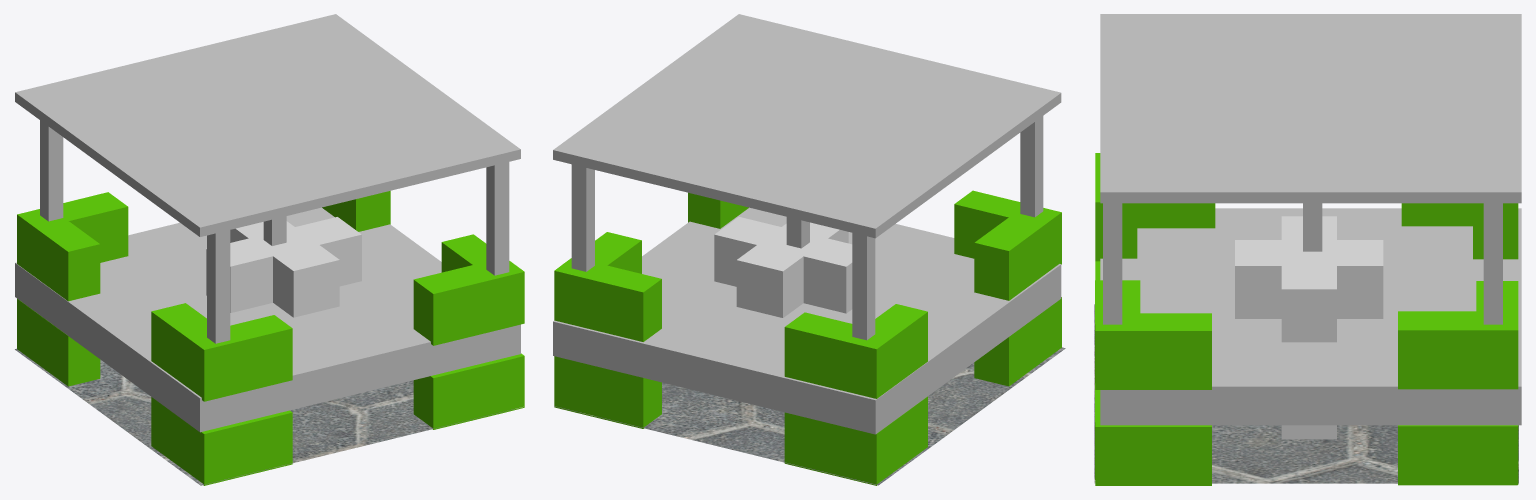
Rendered from Plus_Grid.fbx.
The picture shows the model from 3 angles, left to right: view 1: azimuth 30°, elevation 25°; view 2: azimuth 150°, elevation 25°; view 3: azimuth 270°, elevation 25°; orthographic projection. The views are drawn at different scales.
Parts seen in each view (by area): view 1: Cube__11_, Cube__5_.001, plus, Cube.004, Cube__7_, Cube__8_, Cube__6_.001, Cube__1_.003, Cube__2_.002, Cube.003, ww, ww__2_ (+3 smaller); view 2: Cube__11_, Cube__5_.001, Cube.004, plus, Cube__6_.001, Cube__7_, Cube__9_, Cube.003, Cube__3_.001, Cube__1_.003, ww__3_, ww__1_ (+3 smaller); view 3: Cube__11_, Cube__5_.001, Cube.004, plus, Cube__9_, Cube__8_, Cube__3_.001, Cube__2_.002, Cube__7_, Cube__6_.001, ww__2_, ww__3_ (+2 smaller).
Boxes of the visible parts, left/top/right/bottom form: Cube__11_: left=15, top=14, right=520, bottom=236; Cube__5_.001: left=15, top=207, right=520, bottom=432; plus: left=15, top=348, right=523, bottom=485; Cube.004: left=206, top=217, right=361, bottom=317; Cube__7_: left=151, top=303, right=292, bottom=401; Cube__8_: left=413, top=234, right=524, bottom=345; Cube__6_.001: left=17, top=192, right=128, bottom=301; Cube__1_.003: left=151, top=397, right=292, bottom=485; Cube__2_.002: left=413, top=353, right=524, bottom=429; Cube.003: left=17, top=298, right=100, bottom=386; ww: left=207, top=230, right=230, bottom=343; ww__2_: left=486, top=162, right=509, bottom=275; Cube__11_: left=553, top=14, right=1061, bottom=238; Cube__5_.001: left=553, top=207, right=1061, bottom=434; Cube.004: left=714, top=217, right=852, bottom=317; plus: left=554, top=347, right=1065, bottom=485; Cube__6_.001: left=784, top=304, right=927, bottom=398; Cube__7_: left=954, top=190, right=1061, bottom=300; Cube__9_: left=554, top=232, right=661, bottom=341; Cube.003: left=784, top=396, right=927, bottom=485; Cube__3_.001: left=554, top=356, right=661, bottom=428; Cube__1_.003: left=974, top=297, right=1061, bottom=386; ww__3_: left=571, top=164, right=594, bottom=271; ww__1_: left=852, top=233, right=875, bottom=340; Cube__11_: left=1100, top=14, right=1521, bottom=203; Cube__5_.001: left=1100, top=208, right=1521, bottom=425; Cube.004: left=1235, top=216, right=1383, bottom=342; plus: left=1094, top=304, right=1518, bottom=483; Cube__9_: left=1398, top=281, right=1518, bottom=389; Cube__8_: left=1095, top=280, right=1211, bottom=389; Cube__3_.001: left=1398, top=425, right=1518, bottom=485; Cube__2_.002: left=1095, top=383, right=1211, bottom=485; Cube__7_: left=1095, top=153, right=1215, bottom=261; Cube__6_.001: left=1401, top=203, right=1518, bottom=259; ww__2_: left=1103, top=203, right=1122, bottom=324; ww__3_: left=1483, top=203, right=1502, bottom=324.
Bounding box in the file's own units: 10040 × 7606 × 10057.
